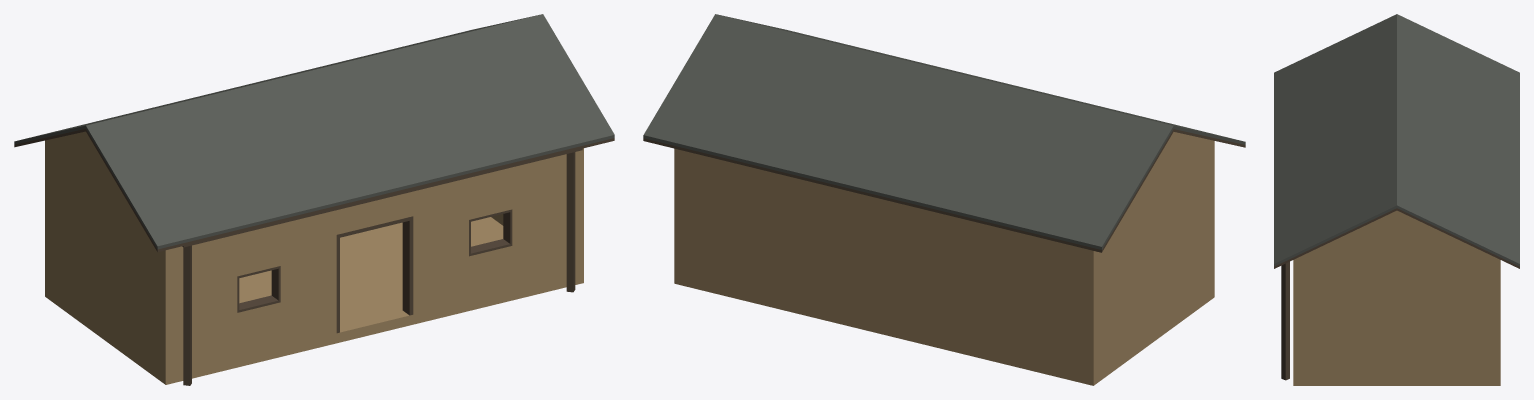
3 renders of one model, left to right at view 1: azimuth 30°, elevation 25°; view 2: azimuth 150°, elevation 25°; view 3: azimuth 270°, elevation 25°, orthographic. The views are drawn at different scales.
Visible parts, largest first — view 1: H96__LY_P01_earth, H96__LY_P01_tile, H96__LY_P01_timber; view 2: H96__LY_P01_earth, H96__LY_P01_tile, H96__LY_P01_timber; view 3: H96__LY_P01_tile, H96__LY_P01_earth, H96__LY_P01_timber.
Part boxes in pixels (x1,y1,x2,y2): H96__LY_P01_earth: [45, 131, 583, 384]; H96__LY_P01_tile: [14, 14, 614, 249]; H96__LY_P01_timber: [14, 129, 614, 385]; H96__LY_P01_earth: [674, 132, 1214, 385]; H96__LY_P01_tile: [643, 14, 1245, 249]; H96__LY_P01_timber: [643, 129, 1245, 252]; H96__LY_P01_tile: [1274, 14, 1519, 266]; H96__LY_P01_earth: [1293, 210, 1500, 385]; H96__LY_P01_timber: [1274, 208, 1519, 380].
Bounding box in the file's own units: 10.5 × 4.83 × 5.7.
